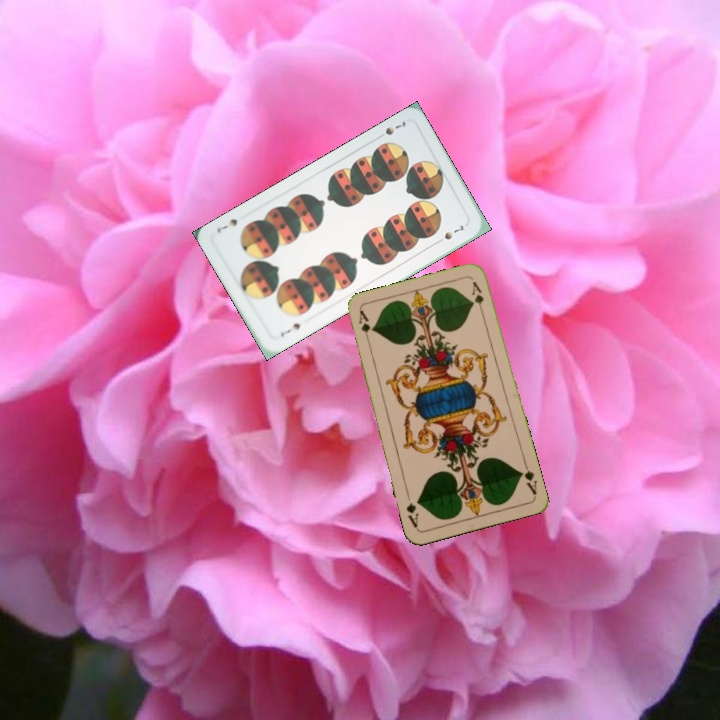GA: (516, 458, 539, 497), (354, 307, 373, 347)
S7: (373, 116, 408, 142), (277, 319, 303, 339)
